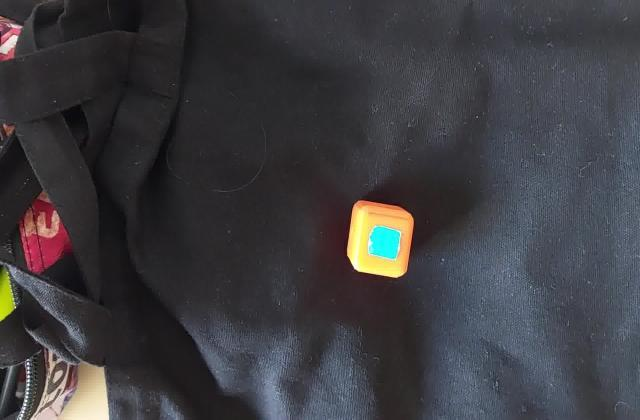blue: (374, 228, 396, 255)
sticker: (342, 198, 416, 280)
